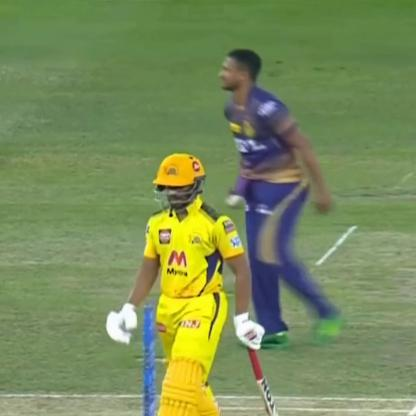ball: (226, 190, 248, 210)
